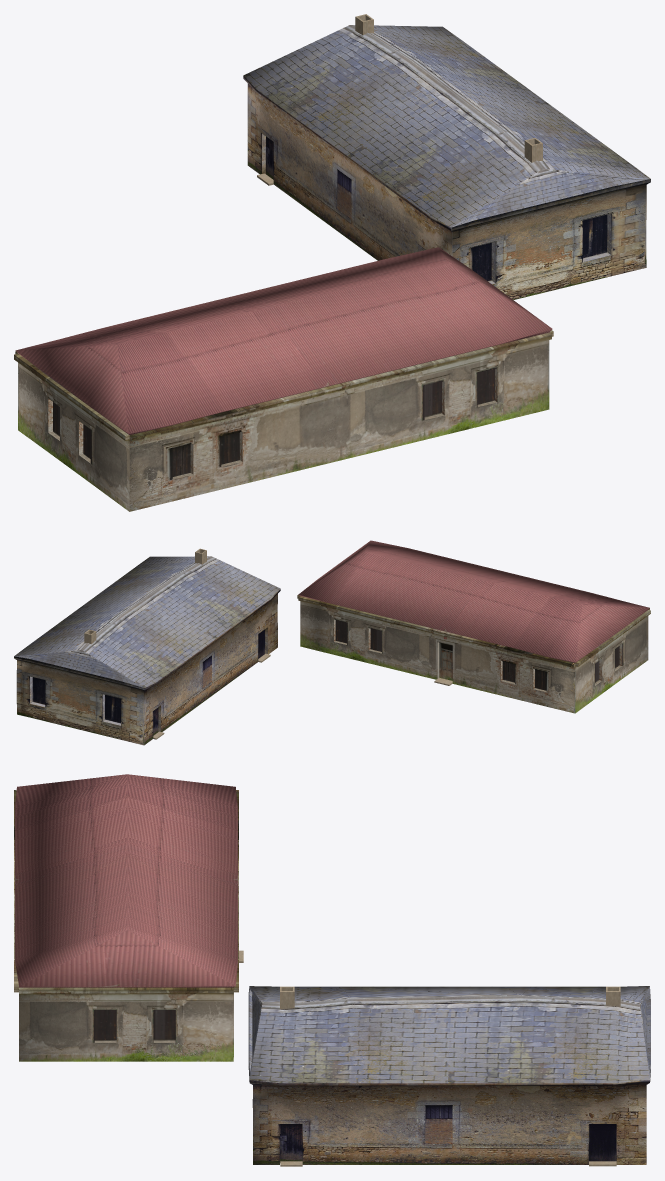
File: low_poly_cottages.glb
3 views of the same model, one above another, from view 1: azimuth 30°, elevation 25°; view 2: azimuth 150°, elevation 25°; view 3: azimuth 270°, elevation 25° (orthographic). The views are drawn at different scales.
Visible parts, largest first — view 1: Object_2; view 2: Object_2; view 3: Object_2.
Part boxes in pixels (x1,y1,x2,y2): Object_2: (14,14,650,511); Object_2: (14,540,650,745); Object_2: (14,774,650,1166).
Bounding box in the file's own units: 1459 × 293 × 1289.
1 material, 1 textured.
